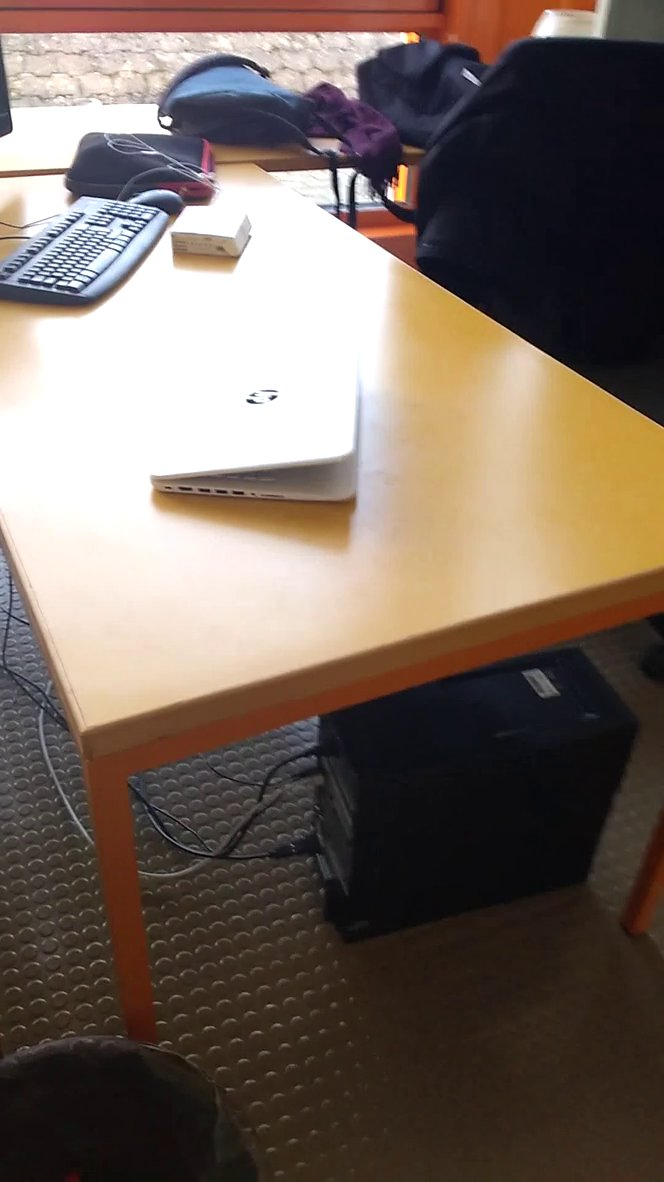bag: (141, 47, 329, 151)
laptop: (144, 328, 376, 534)
